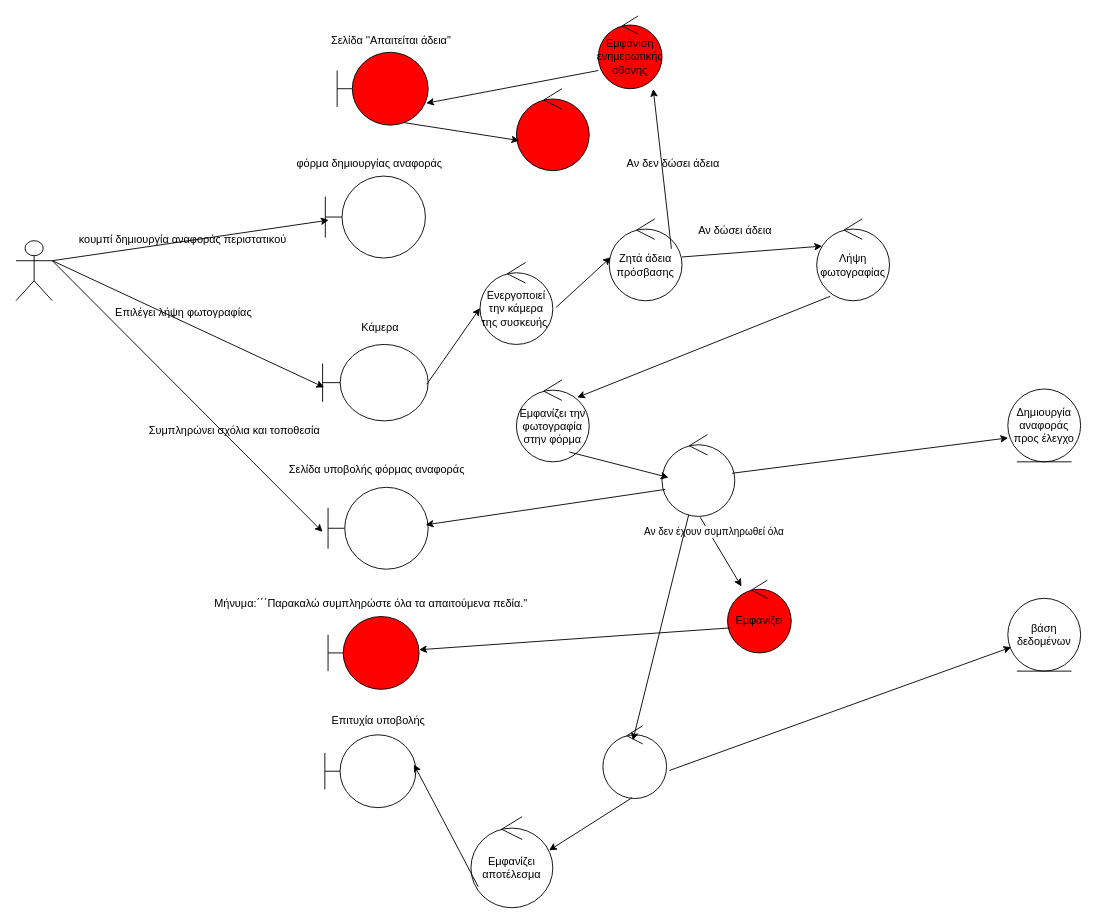
Image size: 1097x924. Some labels were removed from this diagram. The centre of each missing label's shape, as x and y in pixels:
Actor: point 33,270
Δημιουργεί την αναφορά: point 698,475
Εμφάνιση της φόρμας αναφοράς: point 552,129
Καταχωρεί τα δεδομένα: point 634,762
